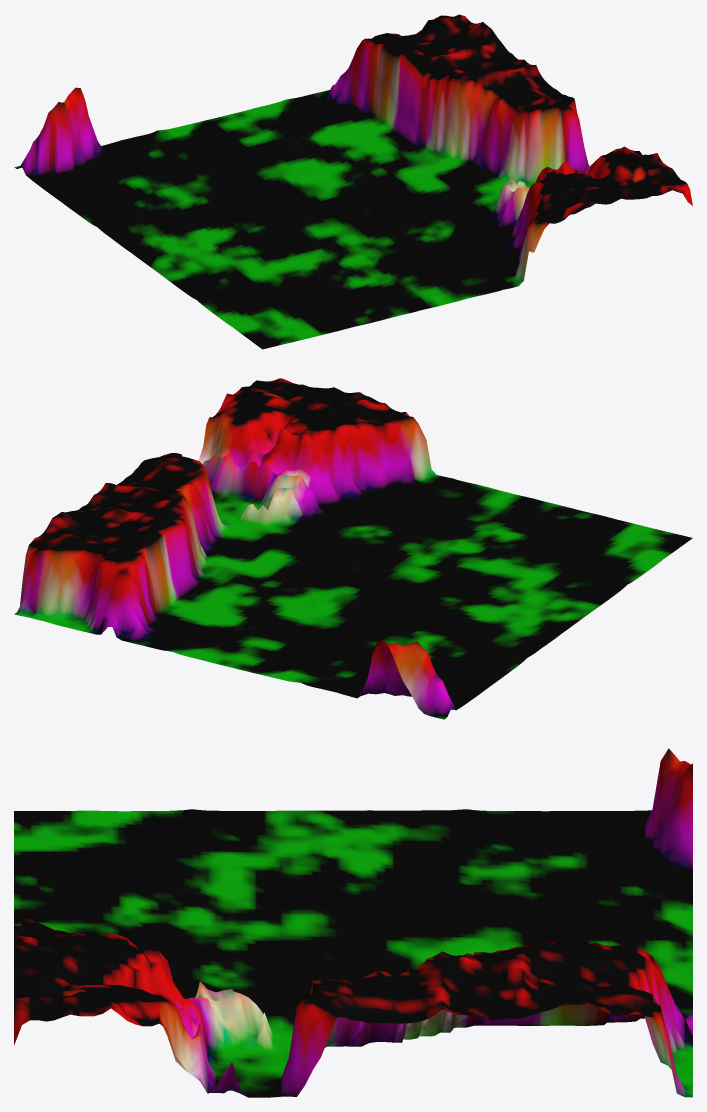
The model's file is SM_AlUla_Terrain_0_3.fbx.
3 renders of one model, top to bottom at view 1: azimuth 30°, elevation 25°; view 2: azimuth 150°, elevation 25°; view 3: azimuth 270°, elevation 25°, orthographic. The views are drawn at different scales.
Visible parts, largest first — view 1: SM_AlUla_Terrain_0_3; view 2: SM_AlUla_Terrain_0_3; view 3: SM_AlUla_Terrain_0_3.
Boxes of the visible parts, left/top/right/bottom form: SM_AlUla_Terrain_0_3: left=14, top=14, right=692, bottom=349; SM_AlUla_Terrain_0_3: left=14, top=378, right=692, bottom=719; SM_AlUla_Terrain_0_3: left=14, top=748, right=692, bottom=1097.
Size of the model in its own units: 50400 by 7908 by 50400.
